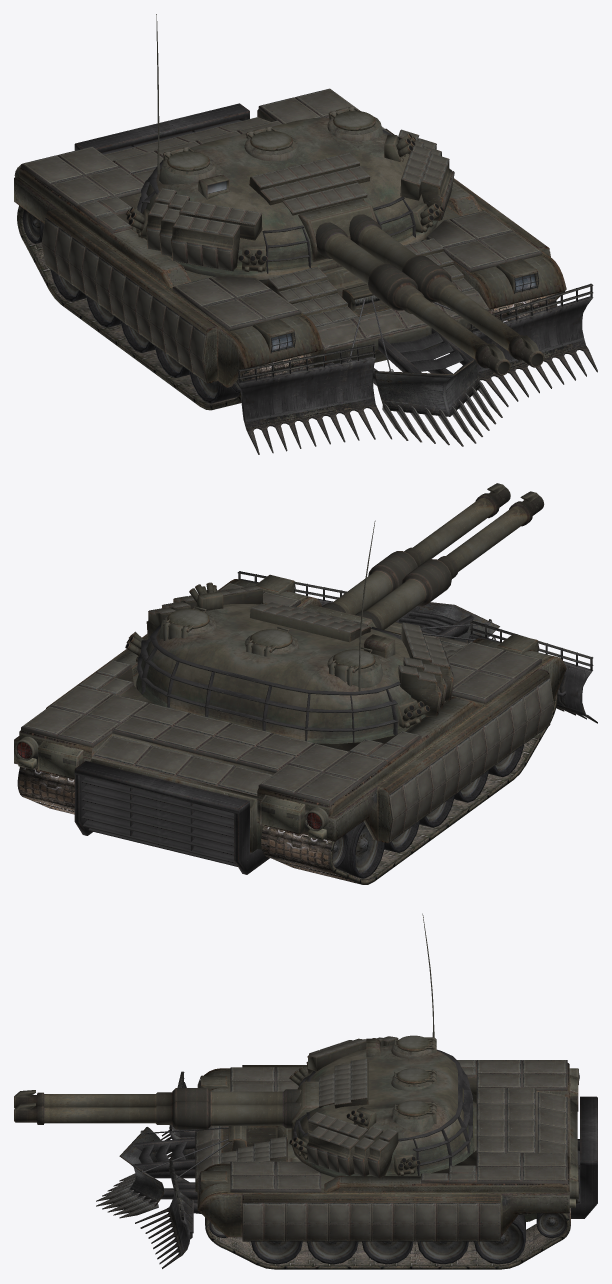
File: Tank2.obj
3 renders of one model, top to bottom at view 1: azimuth 30°, elevation 25°; view 2: azimuth 150°, elevation 25°; view 3: azimuth 270°, elevation 25°, orthographic. The views are drawn at different scales.
Bounding box in the file's own units: 29977 × 25457 × 53352.
Materials: 3 (3 with a texture image).
